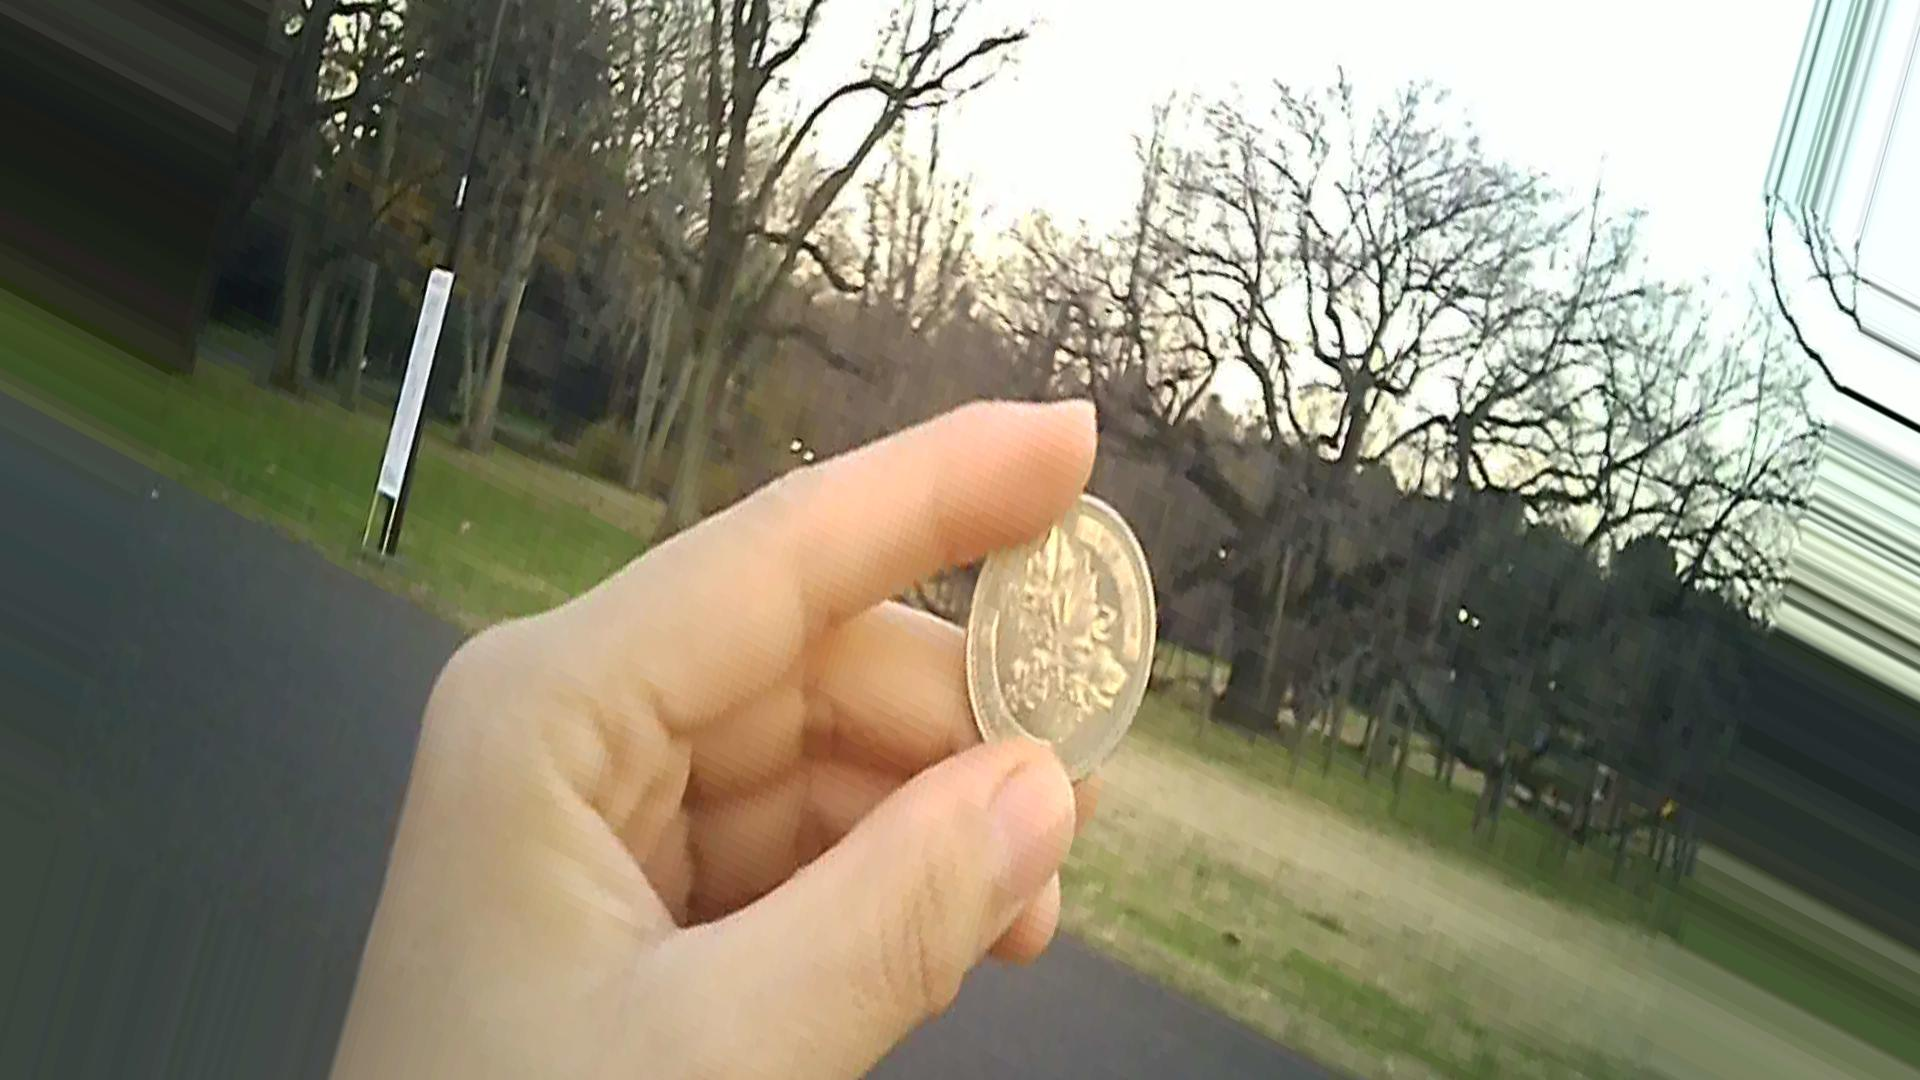500 Yen: (969, 477, 1153, 811)
